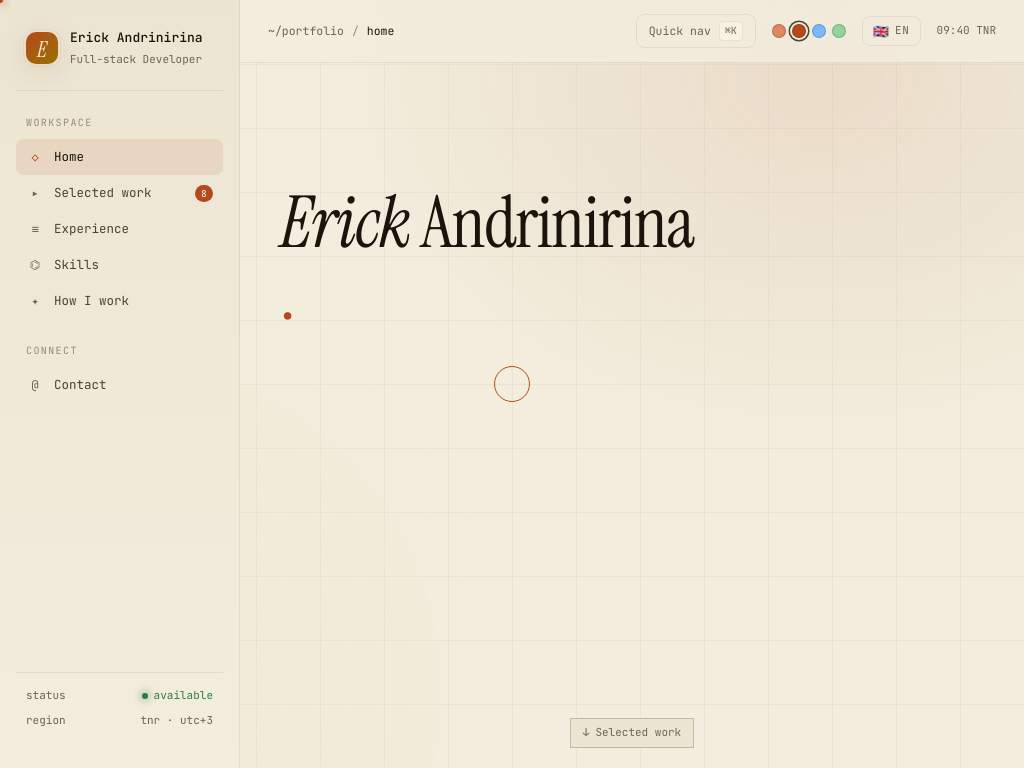
Scenario: Command palette (⌘K) › opens the palette from the topbar ⌘K button
Click the button with test id "tb-cmdk-btn".
click(696, 31)  # box 636,14 -> 756,48
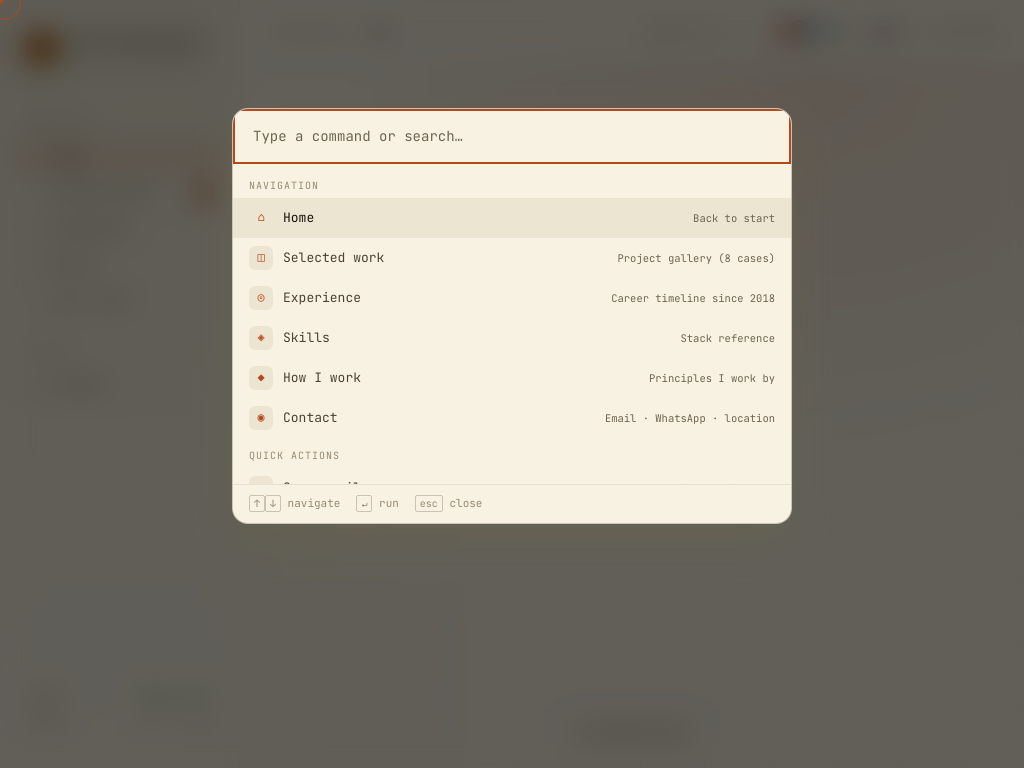
Result: the dialog is shown at 232,108 -> 792,524
